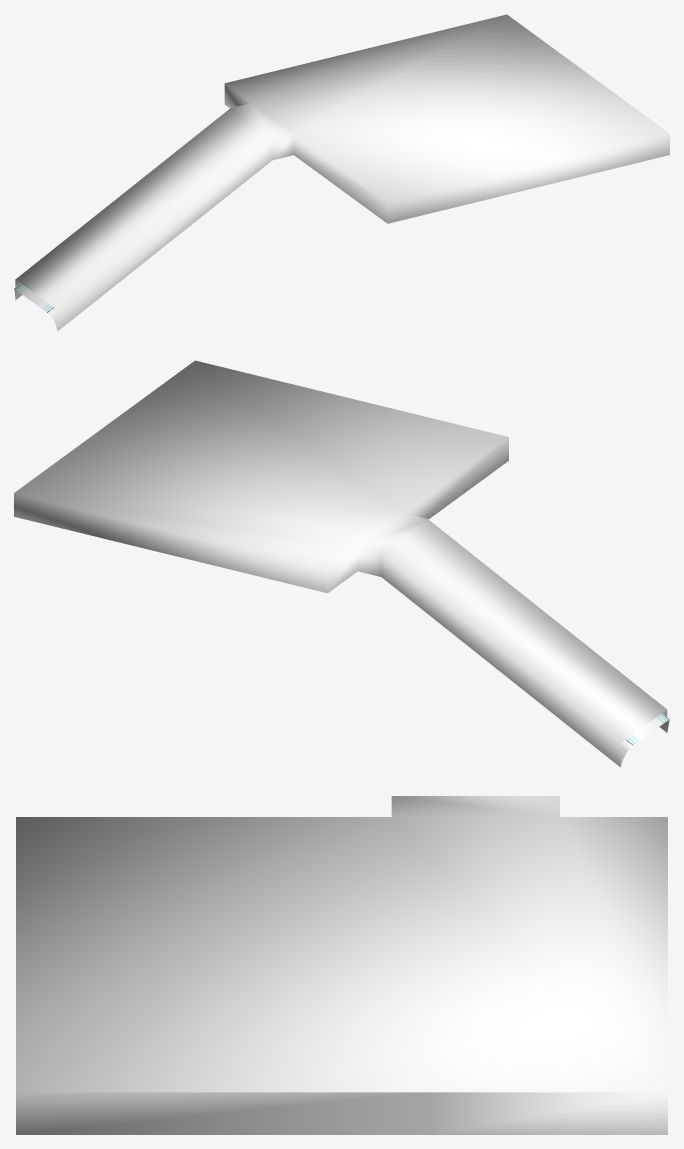
File: PlatformWramp.fbx
3 renders of one model, top to bottom at view 1: azimuth 30°, elevation 25°; view 2: azimuth 150°, elevation 25°; view 3: azimuth 270°, elevation 25°, orthographic. The views are drawn at different scales.
Visible parts, largest first — view 1: Platform_ColMesh, Platform; view 2: Platform_ColMesh, Platform; view 3: Platform_ColMesh.
Part boxes in pixels (left/top/right/bottom): Platform_ColMesh: left=15, top=14, right=669, bottom=330; Platform: left=14, top=283, right=57, bottom=330; Platform_ColMesh: left=14, top=360, right=667, bottom=767; Platform: left=620, top=713, right=669, bottom=766; Platform_ColMesh: left=16, top=796, right=667, bottom=1134.
Bounding box in the file's own units: 1333 × 340 × 717.
